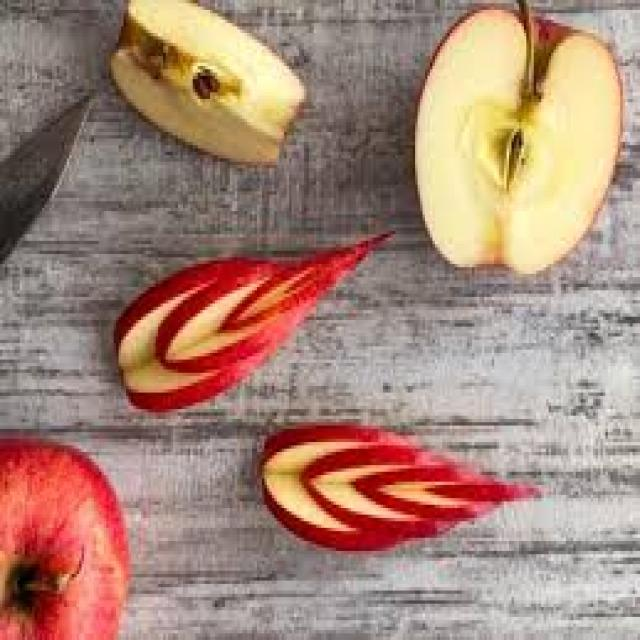Apple: (418, 0, 624, 281), (114, 232, 393, 408), (253, 409, 533, 548), (102, 2, 308, 171), (0, 425, 126, 640)
